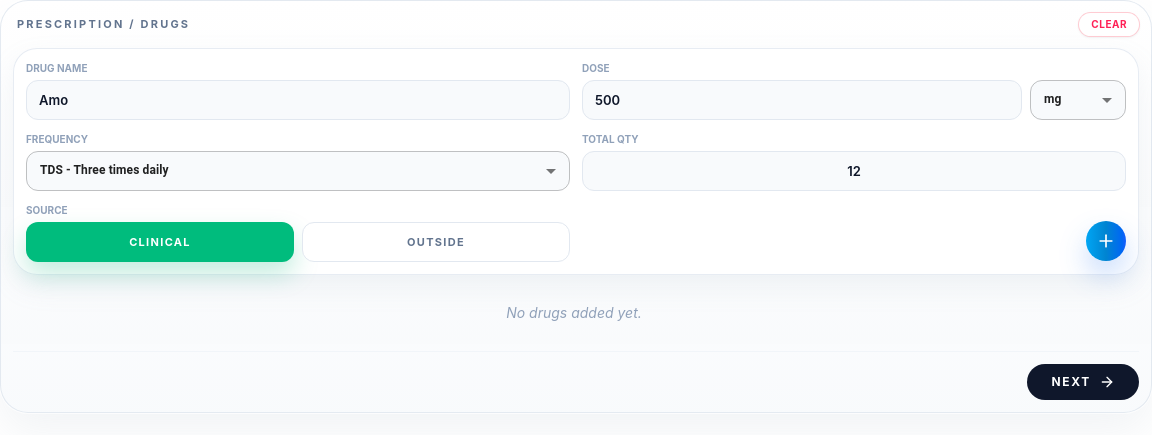
Test: RxEditor › closes the drug suggestion menu after a suggestion is selected
This screenshot has width=1152, height=435.
Click the field labelled "Drug Name" at (298, 100), box left=26, top=80, right=570, bottom=120
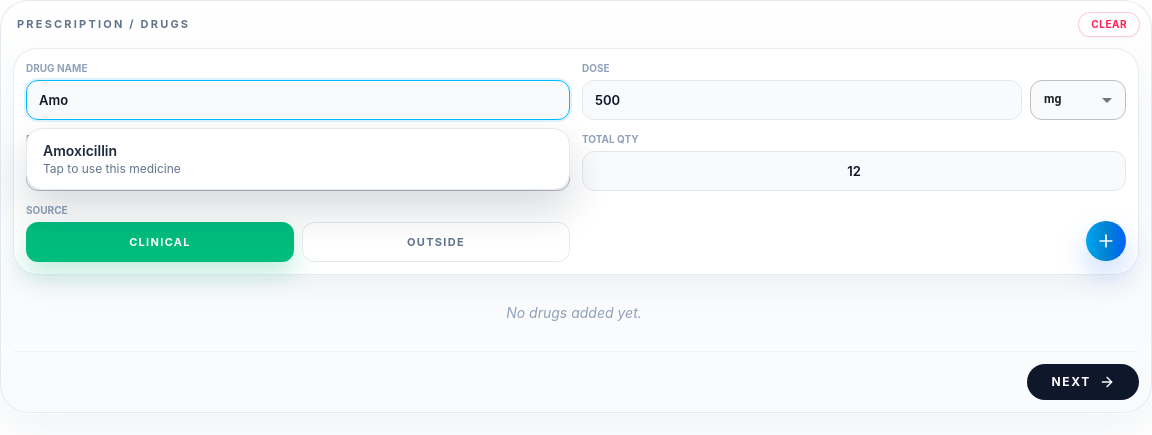
Check: the button "Amoxicillin Tap to use this medicine" is shown
Click the button "Amoxicillin Tap to use this medicine" at (80, 150), box left=27, top=129, right=569, bottom=189
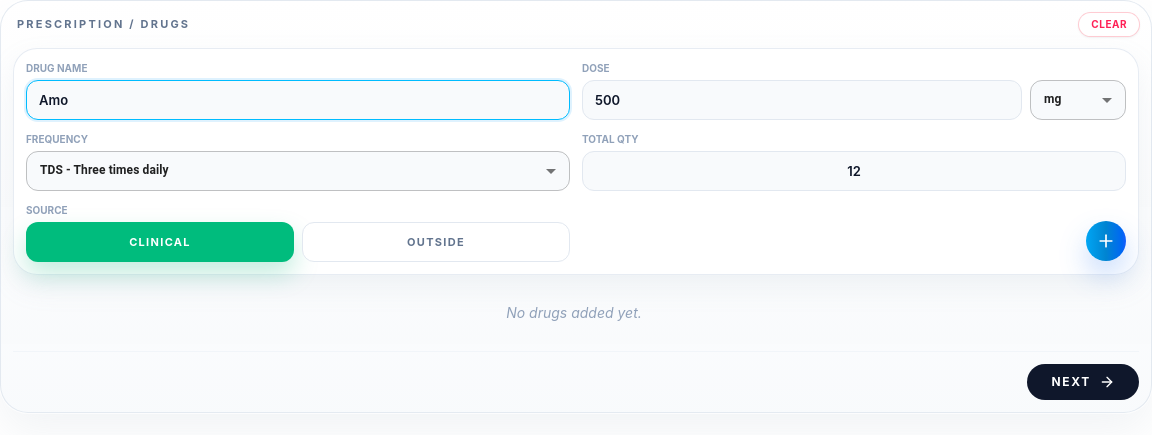
Check: the button "Amoxicillin" is gone
